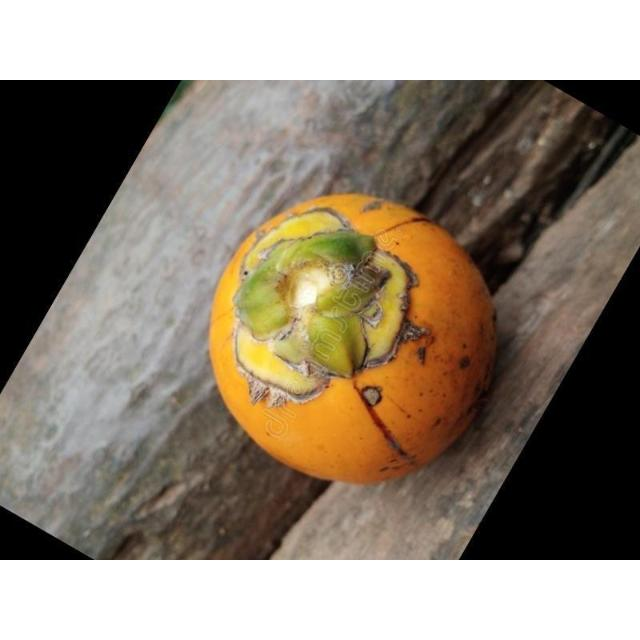good: (209, 194, 497, 485)
